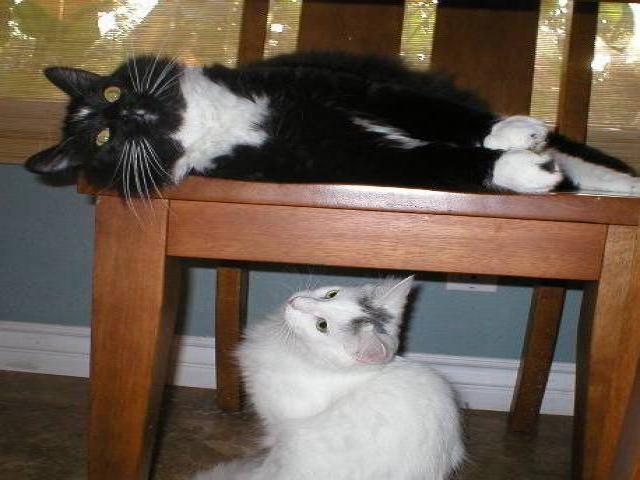cat: (23, 46, 602, 212), (210, 268, 481, 480)
